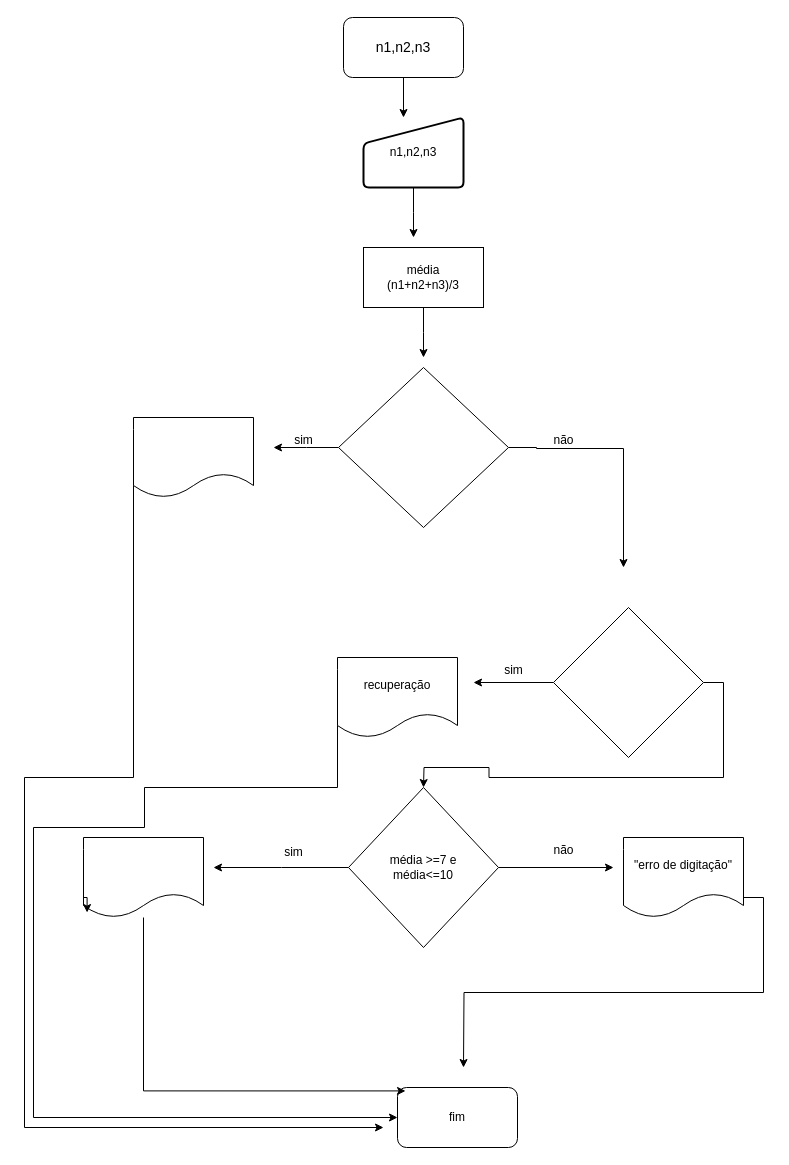
The diagram is 789 pixels wide and 1165 high, and some of its shapes have lost their labels. The shapes that lost their labels are listed below. From the top down, each one's centre as x and y in pixels, then its label:
point 193,457: "recuperação"
point 423,447: média >=0 e média <=4
point 628,682: média >4 e média <7
point 143,877: aprovado
